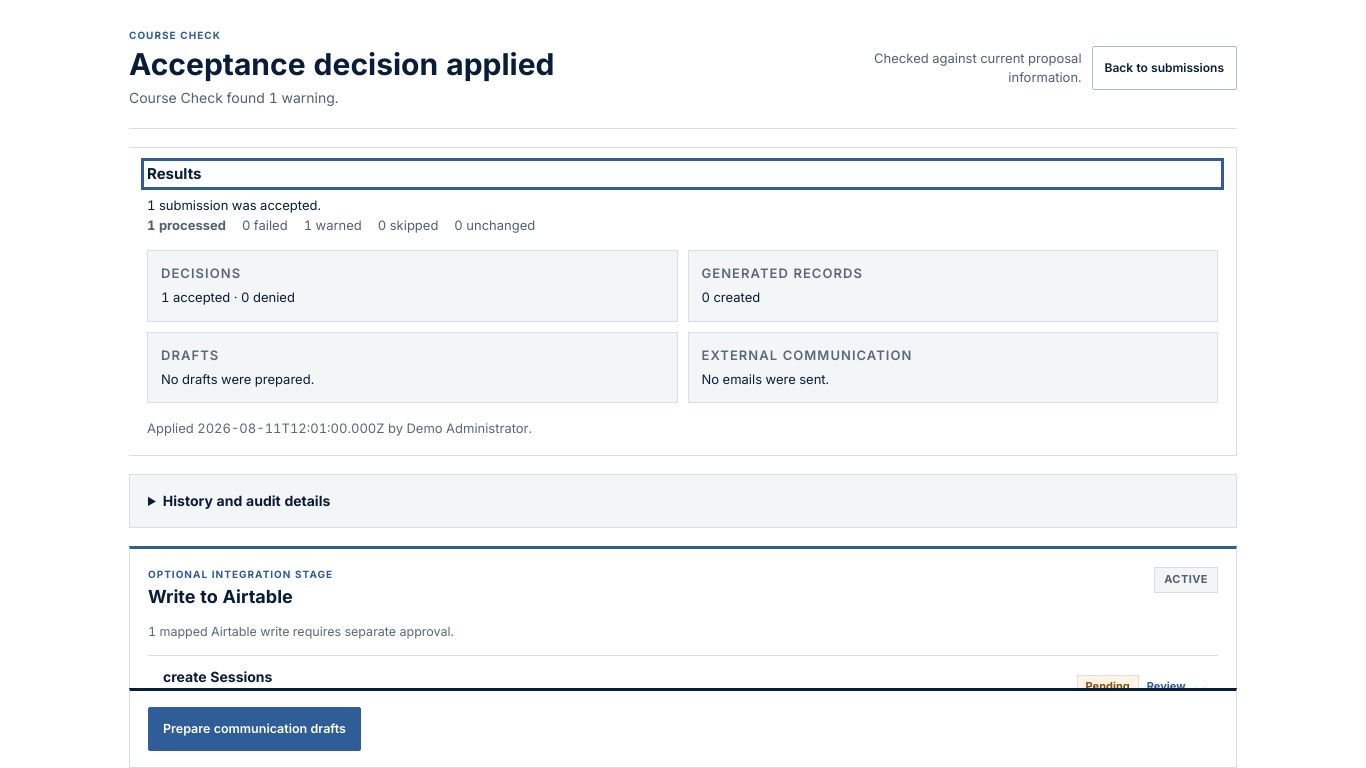
Test: Course Check review workspace › advances from an applied decision into editable message preparation in the same workspace
Click the button "Prepare communication drafts".
click(254, 729)  # box [148,707,361,751]
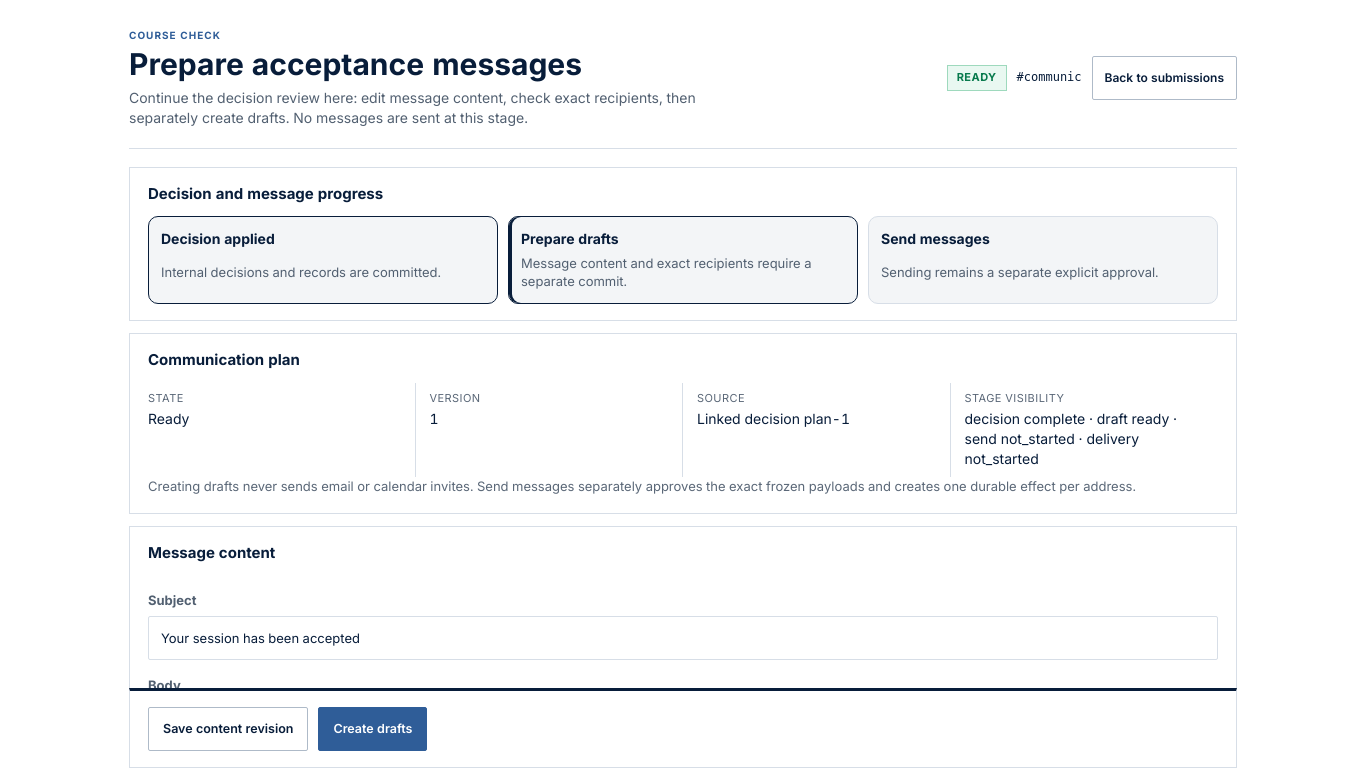
Now the heading "Prepare acceptance messages" is shown, box [129,46,582,82]
Now the field labelled "Subject" holds "Your session has been accepted", box [148,616,1218,660]
Now the button "Create drafts" is enabled, box [318,707,428,751]
